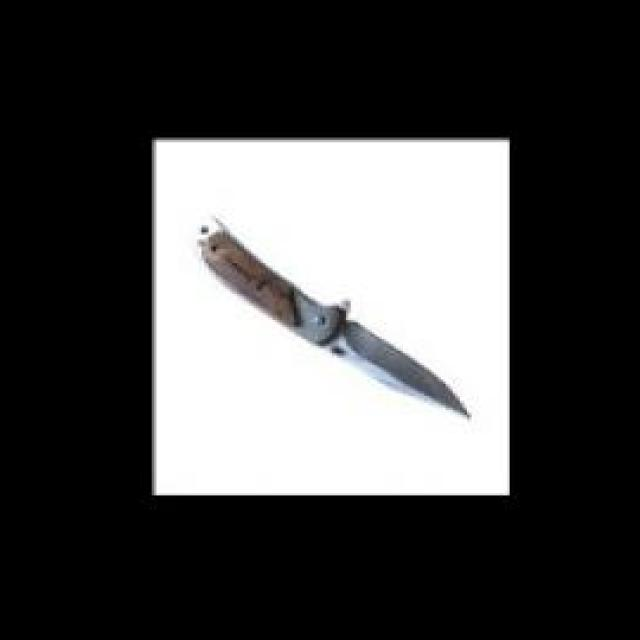knife: (180, 206, 474, 426)
